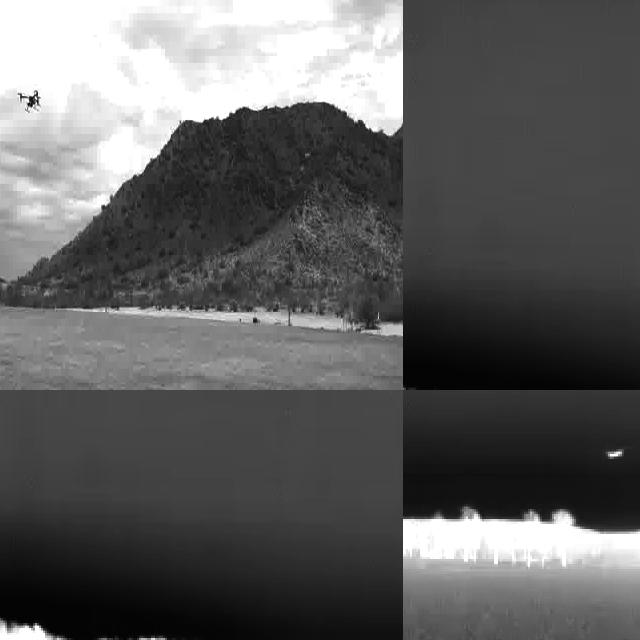1: (597, 442, 633, 474)
drone: (18, 82, 43, 114)
